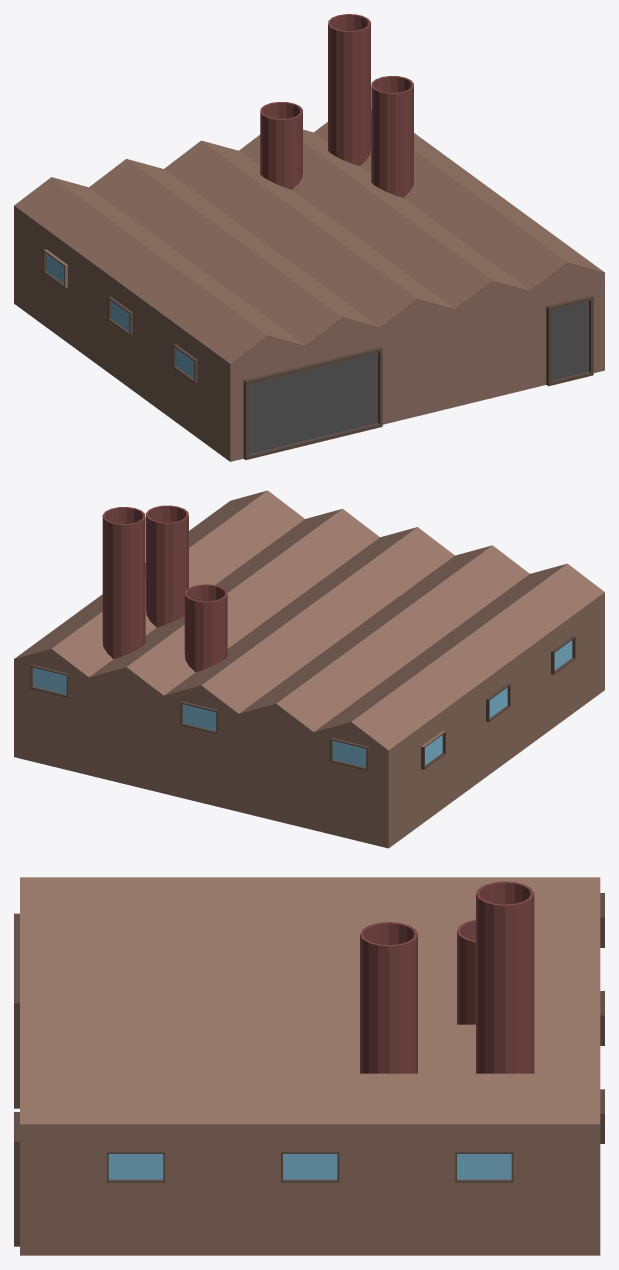
The model's file is Factory.glb.
The picture shows the model from 3 angles, top to bottom: view 1: azimuth 30°, elevation 25°; view 2: azimuth 150°, elevation 25°; view 3: azimuth 270°, elevation 25°; orthographic projection. The views are drawn at different scales.
Parts seen in each view (by area): view 1: Body; view 2: Body; view 3: Body.
Part boxes in pixels (x1,y1,x2,y2): Body: [14, 14, 604, 461]; Body: [14, 490, 604, 848]; Body: [14, 877, 604, 1255].
Size of the model in its own units: 10.16 by 5.95 by 10.18.
